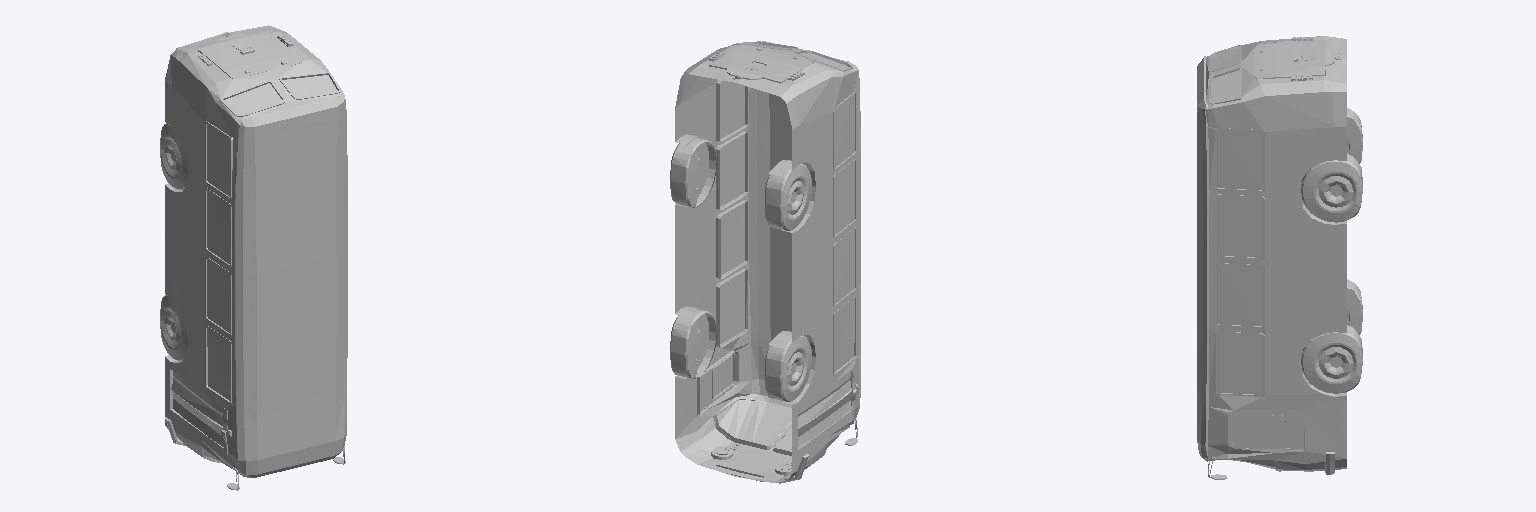
The model's file is Bus.obj.
3 renders of one model, left to right at view 1: azimuth 30°, elevation 25°; view 2: azimuth 150°, elevation 25°; view 3: azimuth 270°, elevation 25°, orthographic.
Visible parts, largest first — view 1: FINAL:bus_ussr_bus_ussr1_0; view 2: FINAL:bus_ussr_bus_ussr1_0; view 3: FINAL:bus_ussr_bus_ussr1_0.
Part boxes in pixels (left/top/right/bottom): FINAL:bus_ussr_bus_ussr1_0: left=160, top=25, right=347, bottom=490; FINAL:bus_ussr_bus_ussr1_0: left=670, top=41, right=860, bottom=483; FINAL:bus_ussr_bus_ussr1_0: left=1197, top=36, right=1362, bottom=479.
Size of the model in its own units: 14.05 by 41.79 by 15.6.